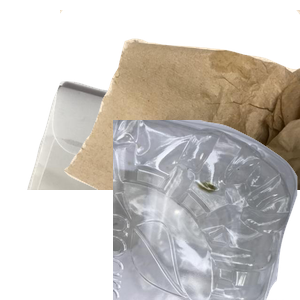glass: (115, 120, 300, 300)
paper: (25, 79, 265, 259)
plastic: (113, 120, 300, 300)
trash: (60, 10, 300, 190)
